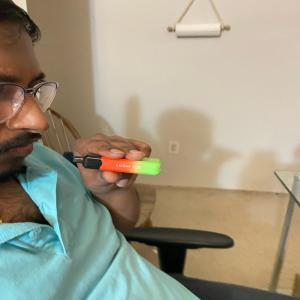Swift-E-Ciggirate: (68, 154, 166, 177)
